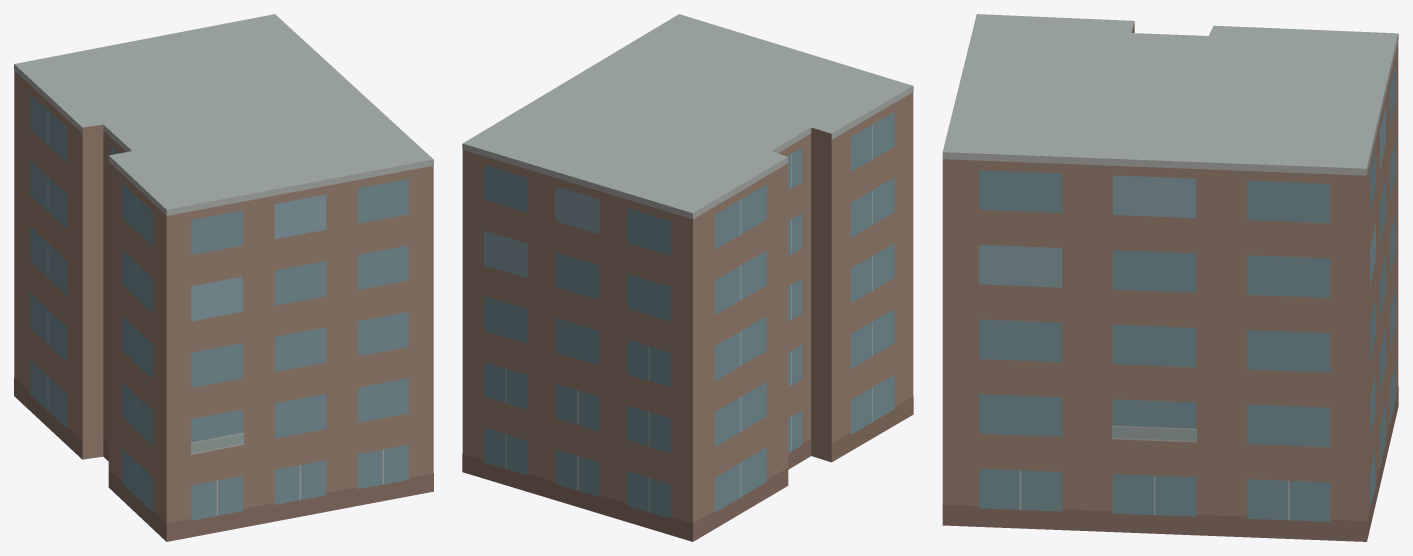
The model's file is survey-upis-32812347.glb.
The picture shows the model from 3 angles, left to right: view 1: azimuth 30°, elevation 25°; view 2: azimuth 150°, elevation 25°; view 3: azimuth 270°, elevation 25°; orthographic projection. The views are drawn at different scales.
Visible parts, largest first — view 1: survey-upis-32812347.tmp; view 2: survey-upis-32812347.tmp; view 3: survey-upis-32812347.tmp.
Boxes of the visible parts, bbox=[...] form: survey-upis-32812347.tmp: bbox=[14, 14, 433, 541]; survey-upis-32812347.tmp: bbox=[462, 14, 913, 541]; survey-upis-32812347.tmp: bbox=[942, 14, 1398, 541].
Bounding box in the file's own units: 11.65 × 13.1 × 14.51.
